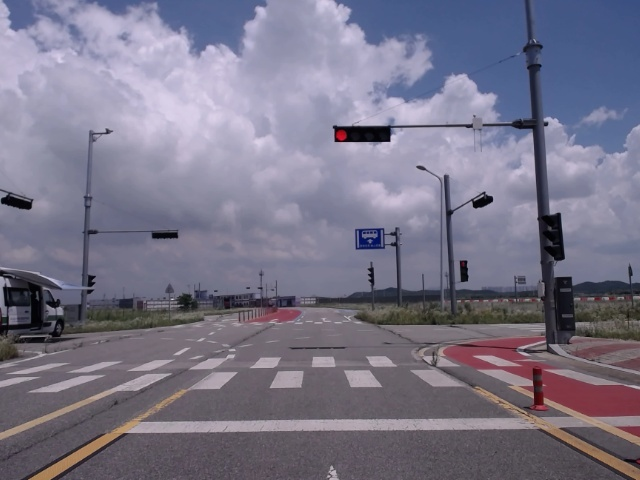red_4: (334, 128, 390, 142)
